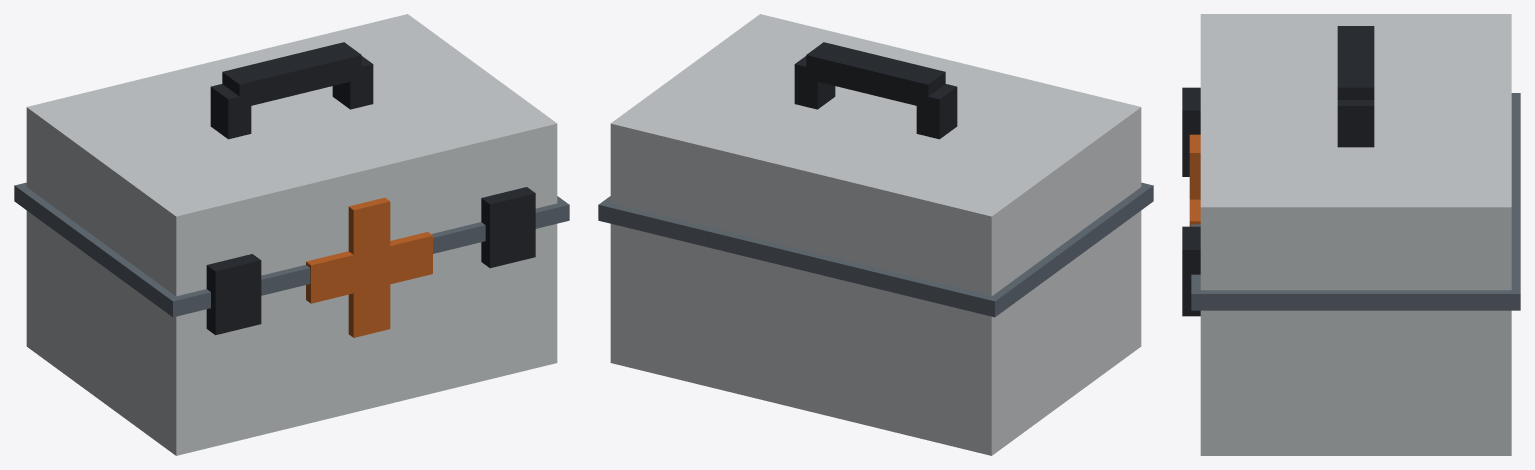
Rendered from trauma-case.glb.
The picture shows the model from 3 angles, left to right: view 1: azimuth 30°, elevation 25°; view 2: azimuth 150°, elevation 25°; view 3: azimuth 270°, elevation 25°; orthographic projection. The views are drawn at different scales.
Visible parts, largest first — view 1: trauma-case; view 2: trauma-case; view 3: trauma-case.
Part boxes in pixels (box(x1,y1,x2,y2)): trauma-case: box(14, 14, 569, 455); trauma-case: box(598, 14, 1153, 455); trauma-case: box(1182, 14, 1520, 455).
Size of the model in its own units: 0.52 by 0.365 by 0.37.
